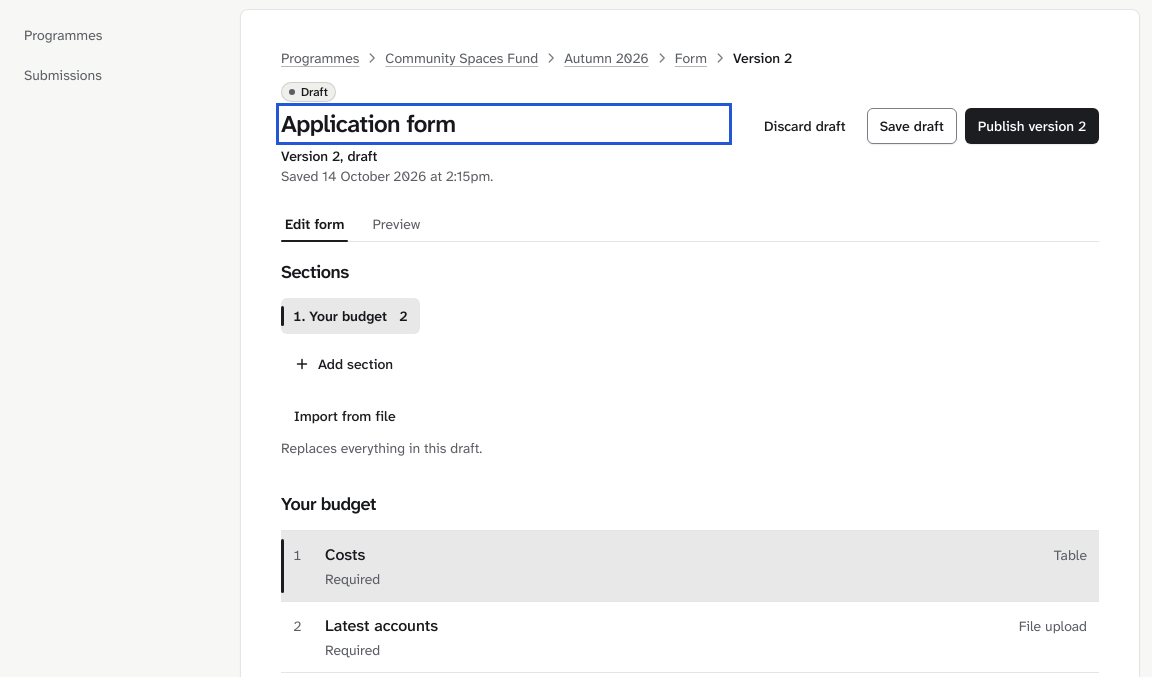
the settings of a file question › are changed, and sent as the form engine keeps them
The image size is (1152, 677).
Expected: the heading "Application form" is shown, [281,108,455,140]
Expected: the text "Version 2, draft" is shown, [281,147,377,165]
Click the button "2 Latest accounts File upload Required".
click(381, 626)  # box [281,602,1099,672]
(page scrolled)
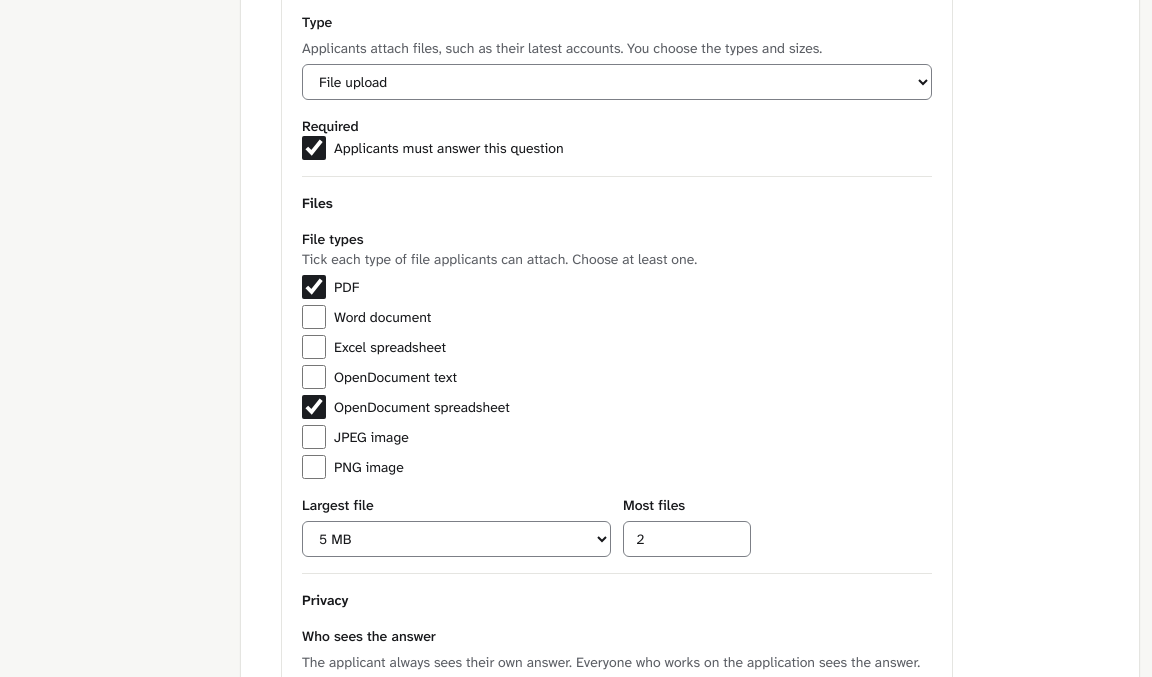
Click the checkbox labelled "Word document".
click(314, 317)  # box [302,305,326,329]
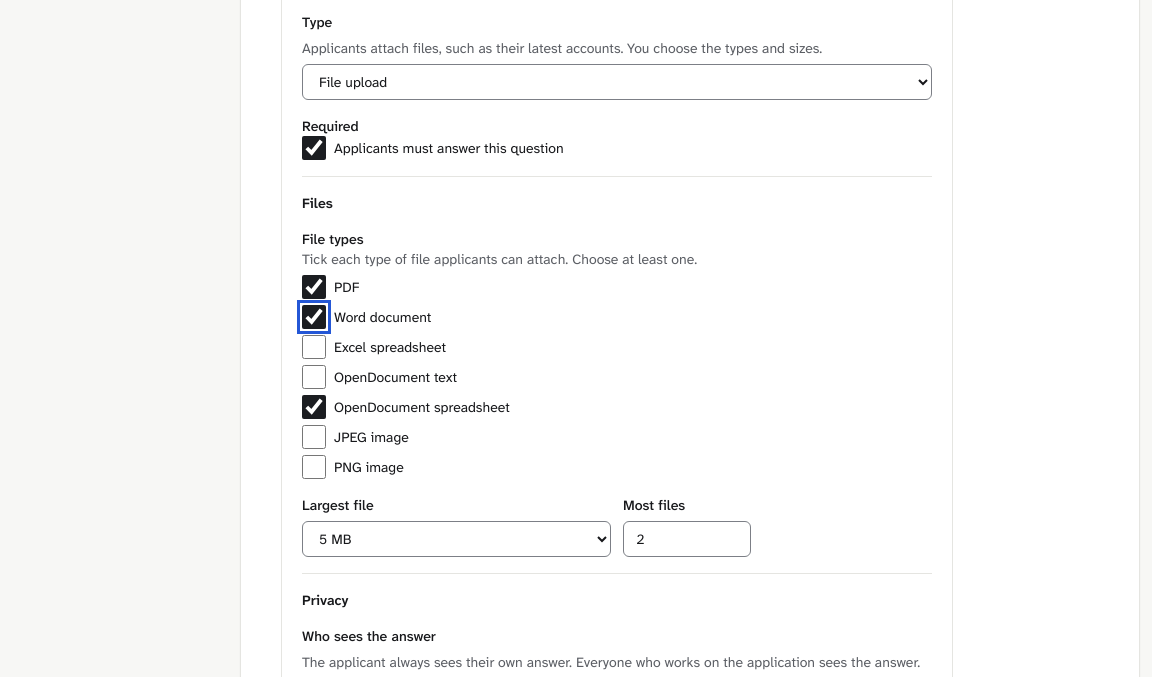
Click the checkbox labelled "OpenDocument spreadsheet".
click(314, 407)  # box [302,395,326,419]
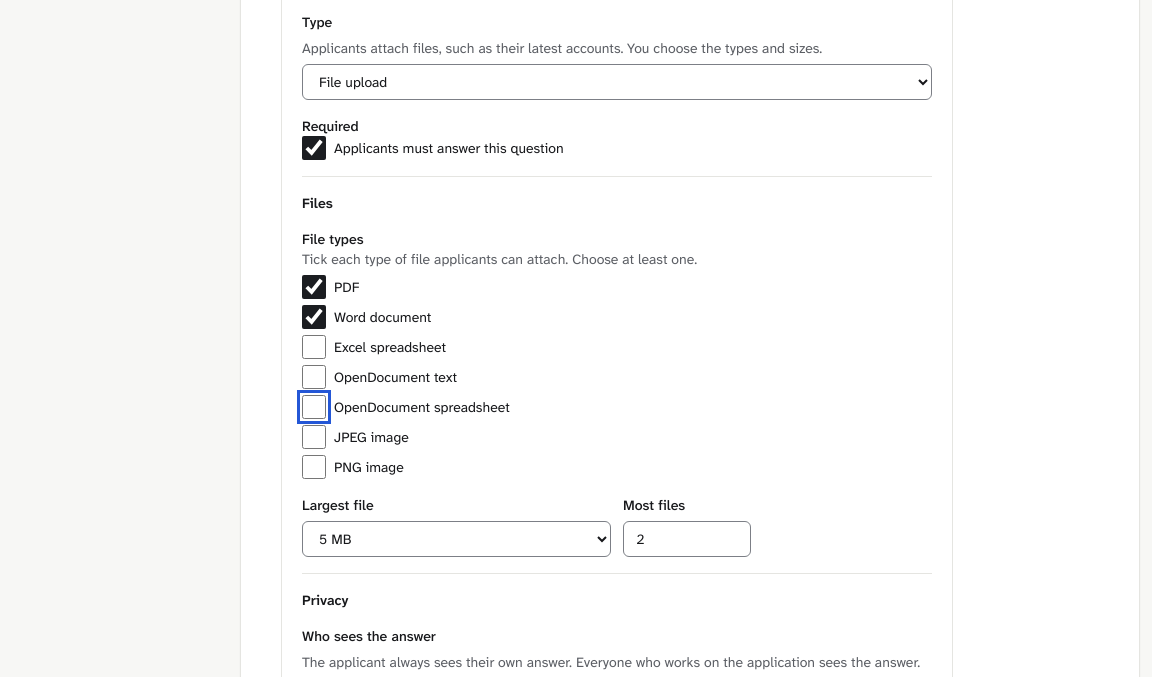
Select "2 MB" in the dropdown labelled "Largest file" at x=456, y=539, box [302,521,611,557]
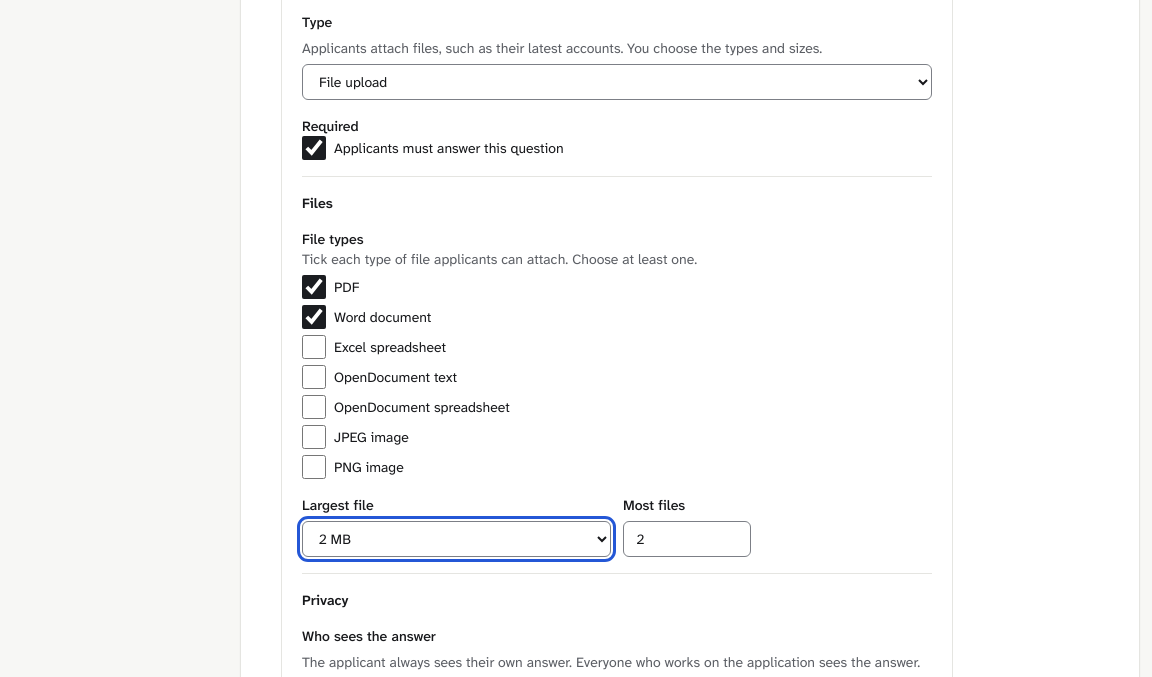
Replace the text in the field labelled "Most files" with "4" at x=687, y=539, box [623,521,751,557]
(page scrolled)
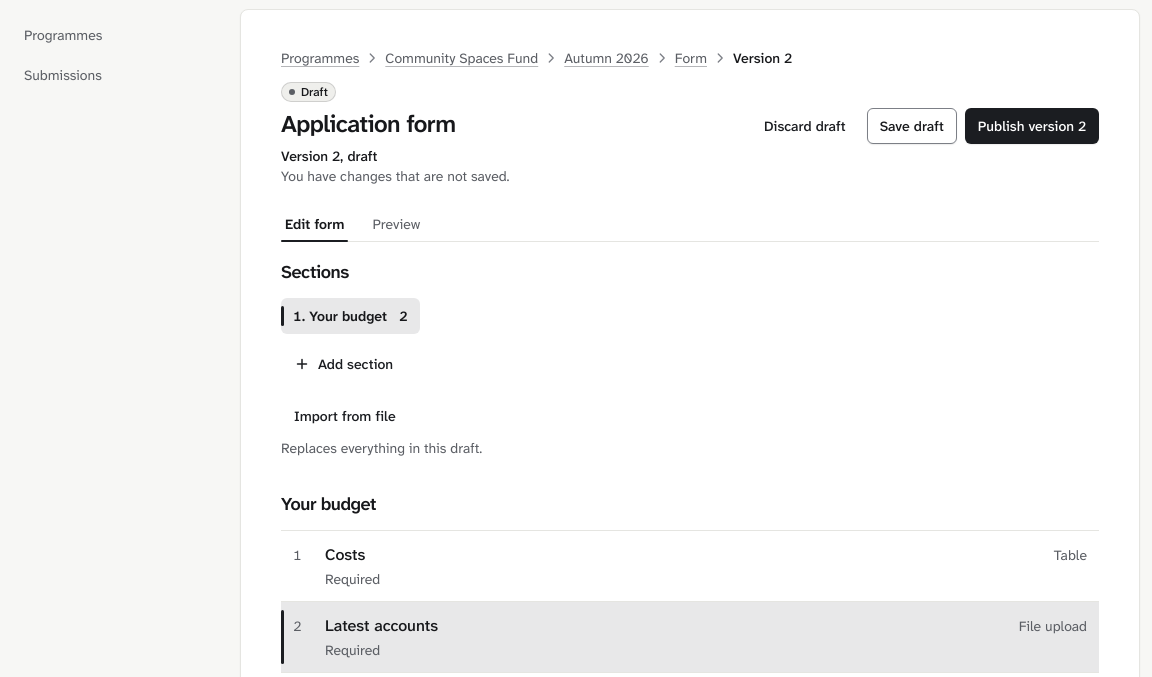
Click the button "Save draft".
click(912, 126)  # box [867,108,957,144]
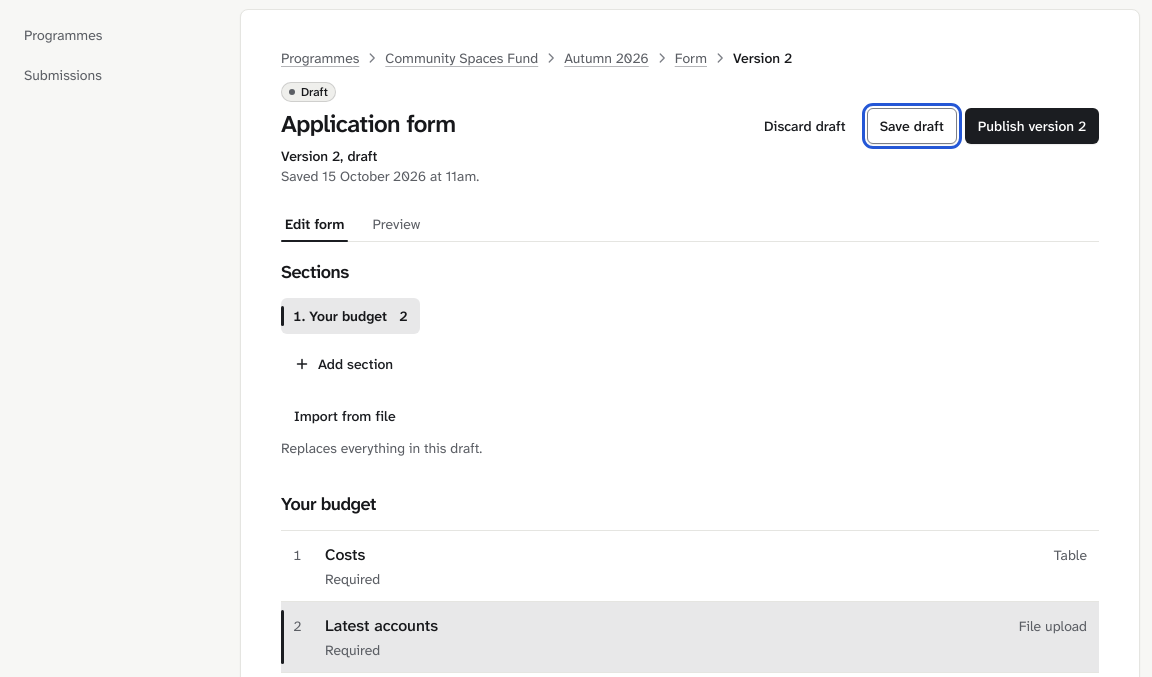
Now the text "Saved 15 October 2026 at 11am." is shown, box [281,167,479,185]
